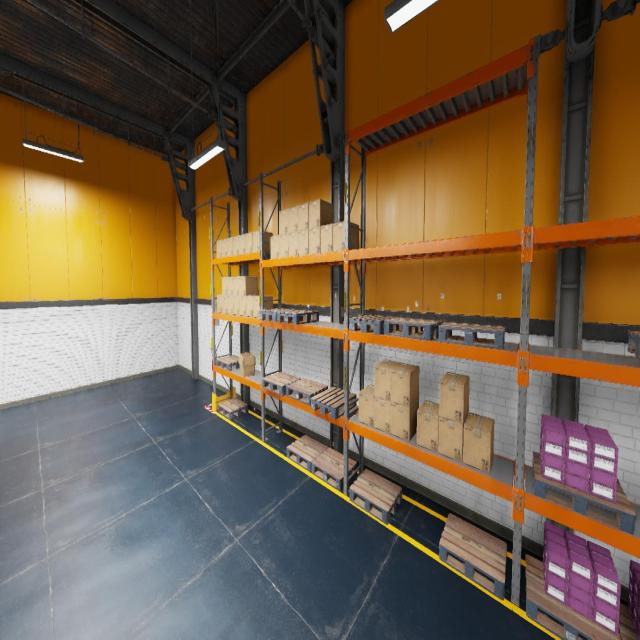box: (463, 412, 494, 473), (439, 372, 469, 424), (438, 412, 468, 462), (391, 363, 419, 407), (416, 400, 439, 453), (391, 398, 419, 441), (374, 360, 402, 401), (333, 221, 359, 251), (309, 199, 333, 228), (359, 385, 374, 427), (374, 397, 391, 434), (252, 230, 273, 252), (253, 296, 273, 318), (238, 352, 256, 376), (239, 276, 259, 296), (320, 223, 333, 253), (298, 202, 309, 230), (309, 227, 320, 254), (298, 229, 309, 255), (288, 206, 298, 233), (288, 231, 298, 257), (279, 208, 288, 234), (279, 233, 288, 258), (246, 296, 257, 316), (271, 235, 279, 259), (245, 232, 252, 253), (239, 296, 246, 316), (239, 234, 245, 254), (232, 236, 238, 256), (233, 276, 239, 295), (227, 237, 233, 256), (216, 239, 222, 258), (233, 296, 239, 314), (227, 296, 233, 314), (227, 277, 233, 295), (217, 294, 222, 313), (222, 238, 227, 257), (222, 296, 227, 314), (222, 277, 227, 295)
pallets: (532, 452, 636, 534), (526, 554, 621, 639), (439, 513, 507, 600), (349, 469, 402, 524), (311, 447, 357, 491), (438, 322, 505, 349), (287, 435, 328, 472), (311, 387, 356, 419), (384, 317, 443, 340), (286, 378, 328, 405), (262, 371, 301, 396), (349, 315, 399, 334), (618, 604, 638, 640), (218, 398, 248, 420), (277, 310, 319, 324), (259, 308, 298, 322), (216, 355, 240, 371), (628, 331, 640, 357)
